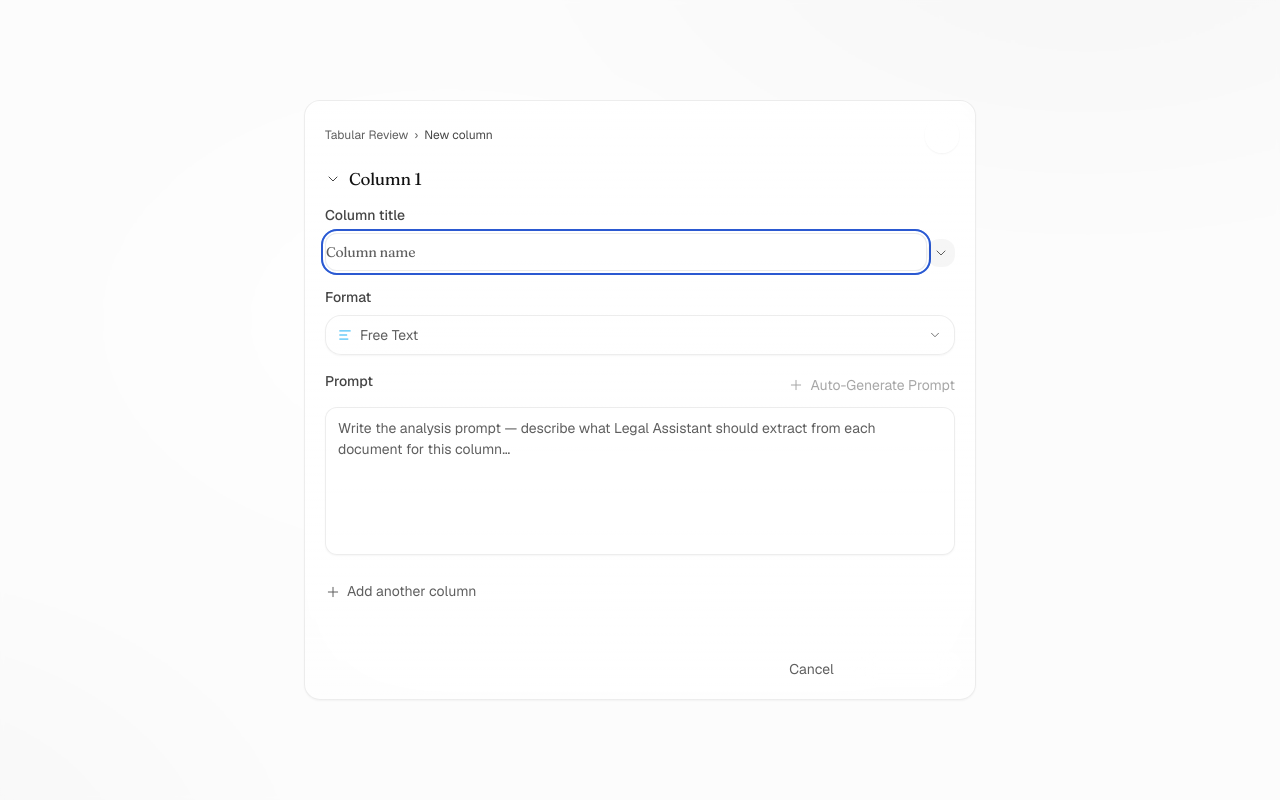
Scenario: keeps the add column form usable after generation fails and permits an explicit retry
Type "Notice days" into the field labelled "Column title" at (626, 252), box top-left (325, 233), bottom-right (927, 271)
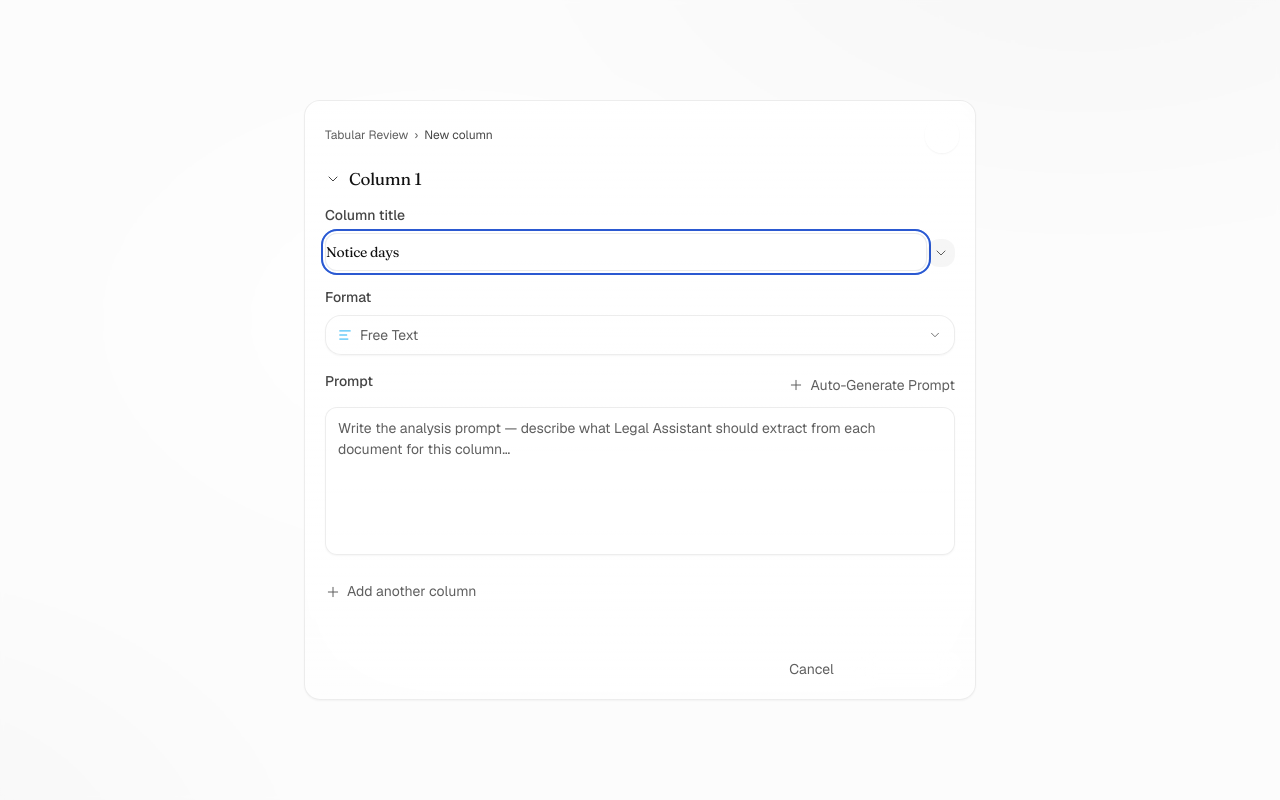
Click the button "Auto-Generate Prompt" at (872, 385), box top-left (788, 375), bottom-right (955, 396)
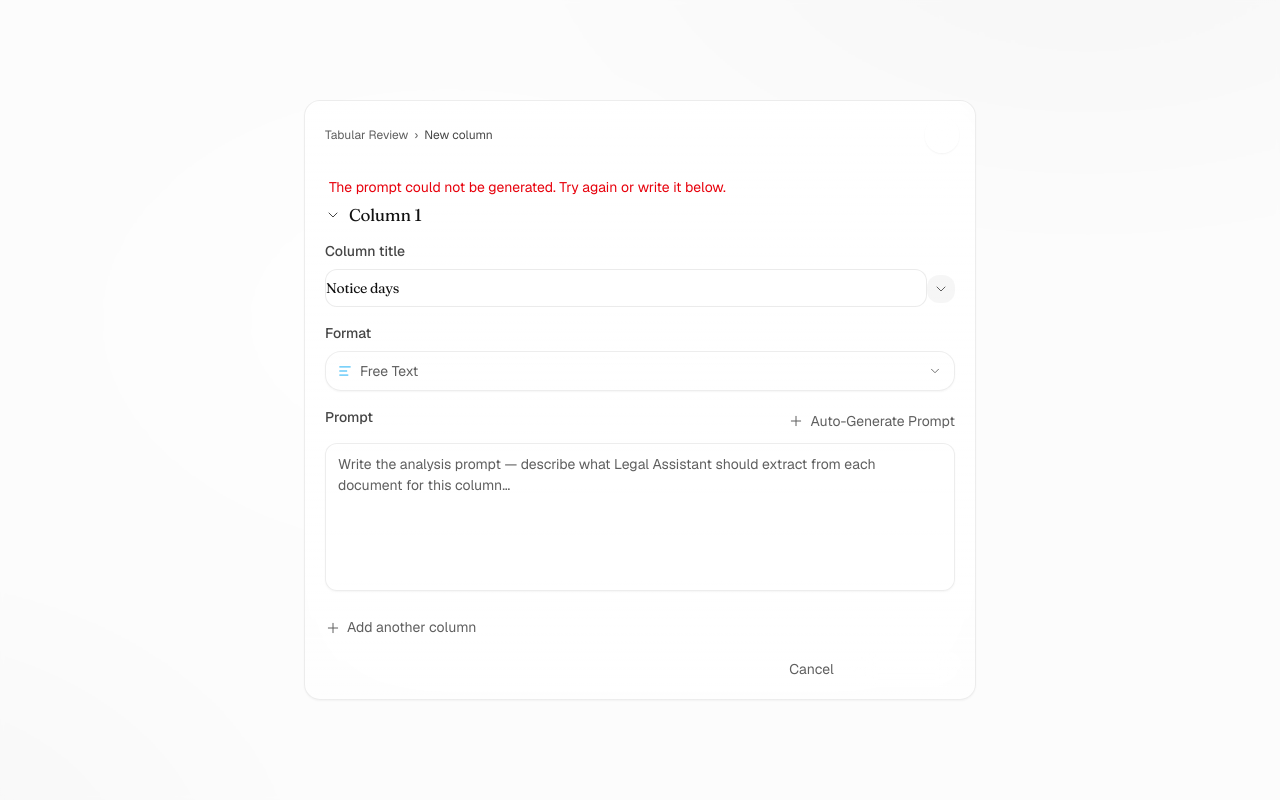
Expected: the message shows "Try again or write it below", top-left (329, 178), bottom-right (726, 196)
Click the button "Auto-Generate Prompt" at (872, 421), box top-left (788, 411), bottom-right (955, 432)
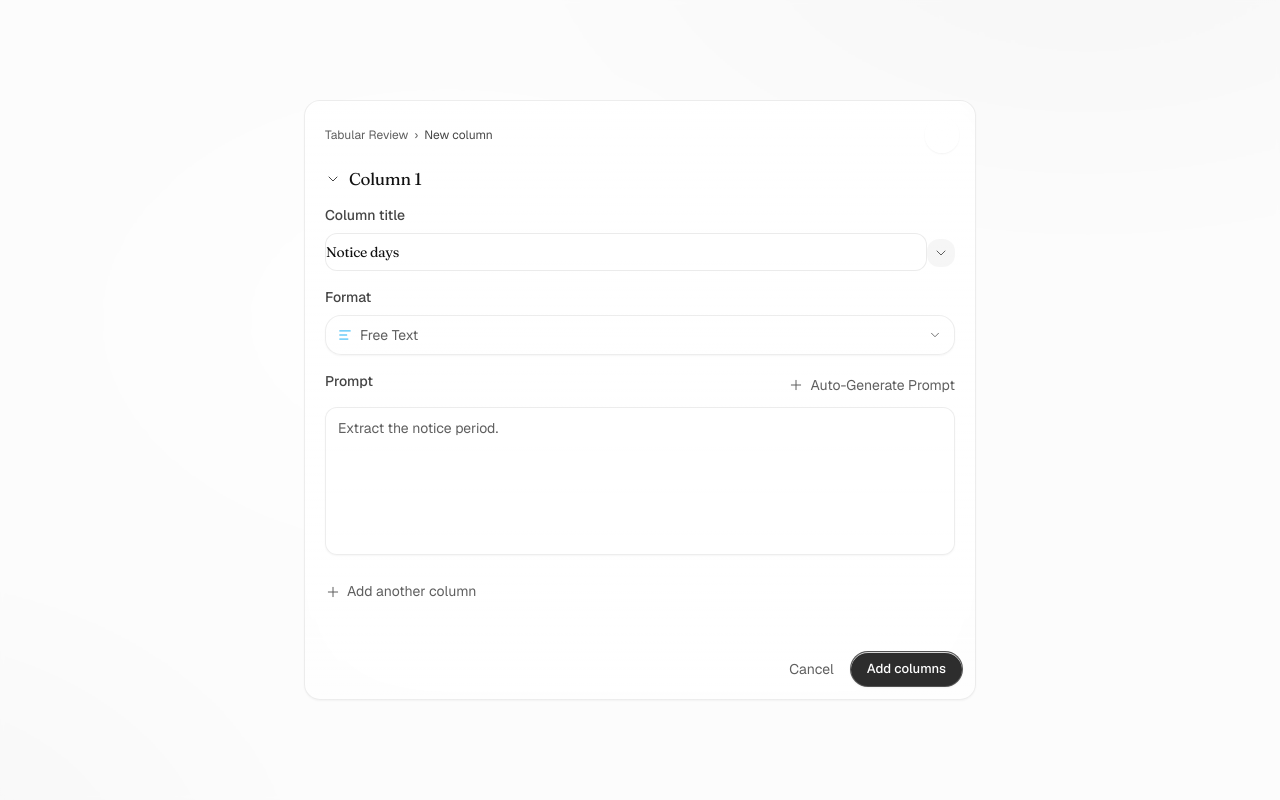
Expected: the text box showing "Extract the notice period." is shown, top-left (325, 407), bottom-right (955, 555)
Expected: the message "The prompt could not be generated. Try again or write it below." is gone
